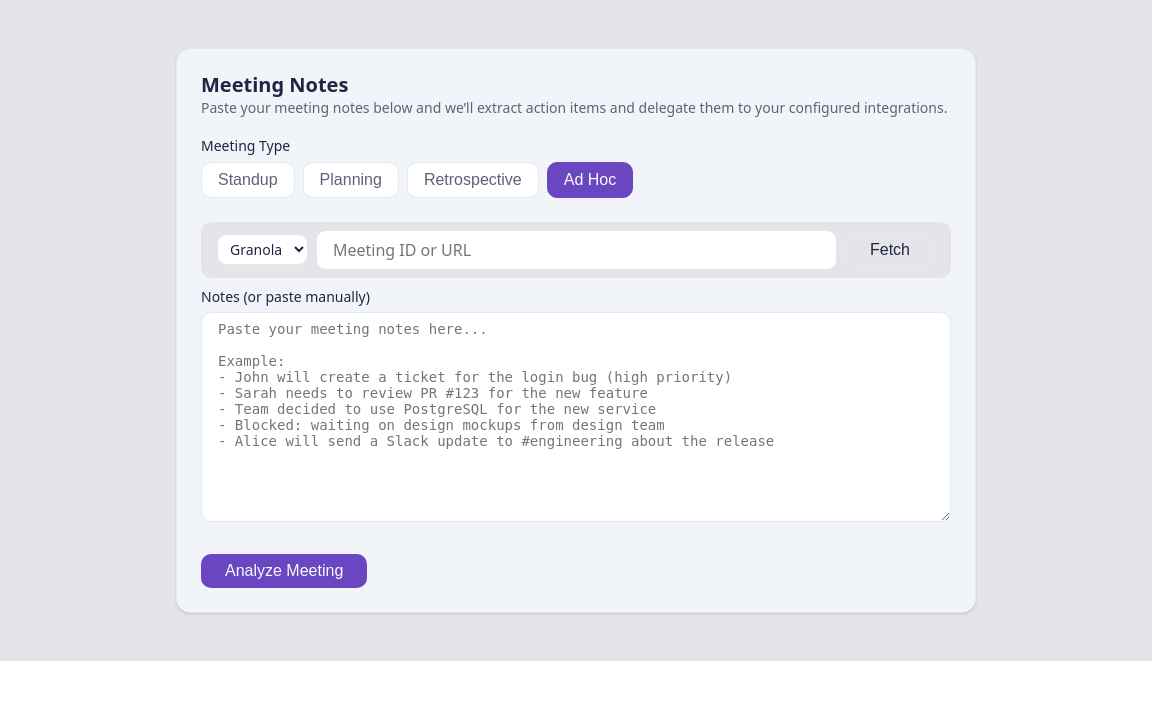
MeetingInput › Fetch success populates the textarea with the returned transcript
Type "call-123" into the field labelled "Meeting ID or URL" at [576, 250], box left=316, top=230, right=837, bottom=270
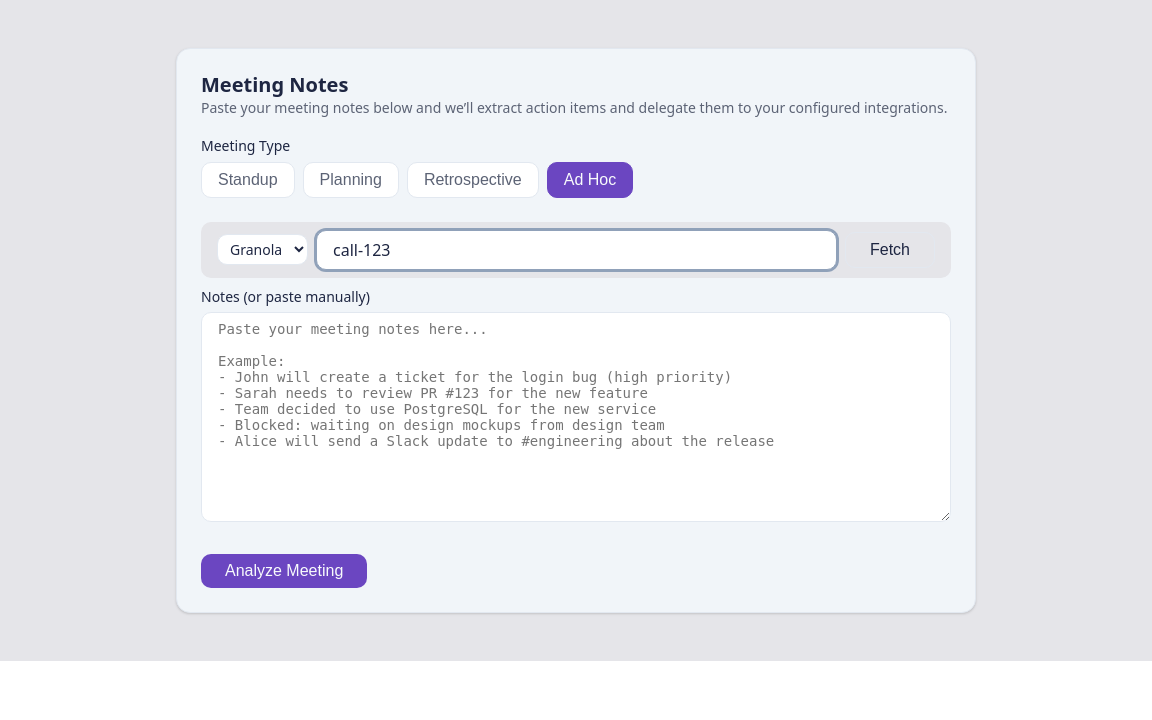
Click the button "Fetch" at [890, 250], box left=845, top=232, right=935, bottom=268
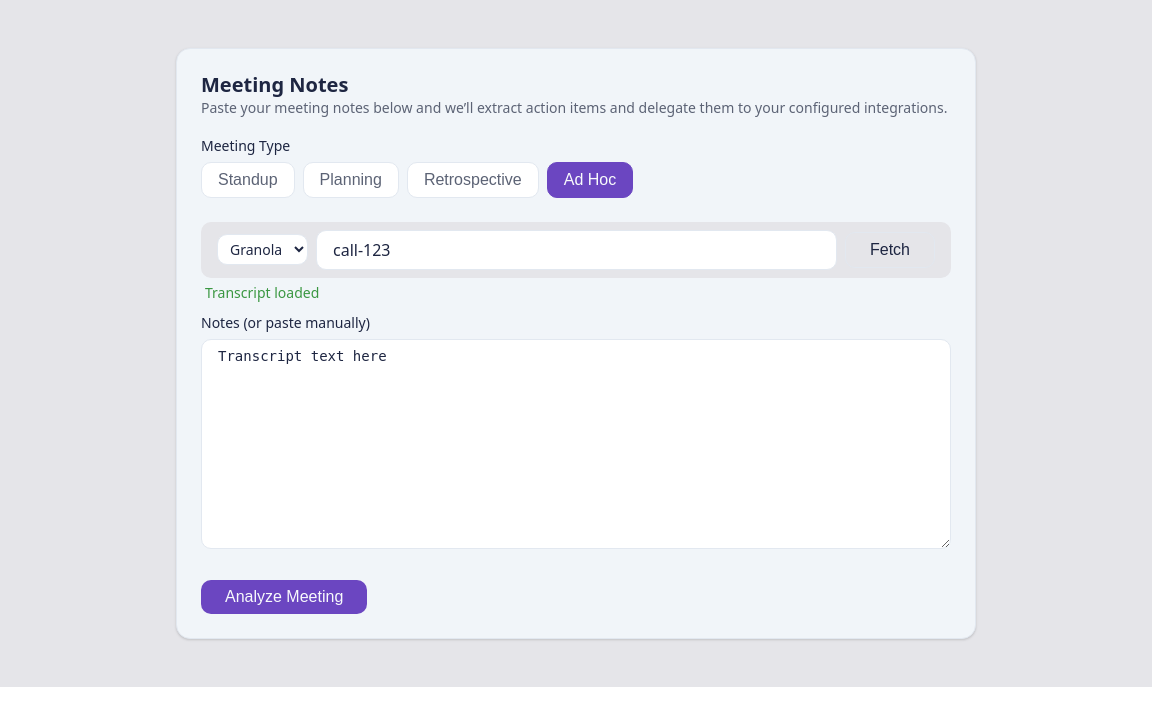
expect the text box labelled "Notes (or paste manually)" holds "Transcript text here": met, box left=201, top=339, right=951, bottom=549
expect the text "Transcript loaded" is shown: met, box left=205, top=283, right=319, bottom=302
